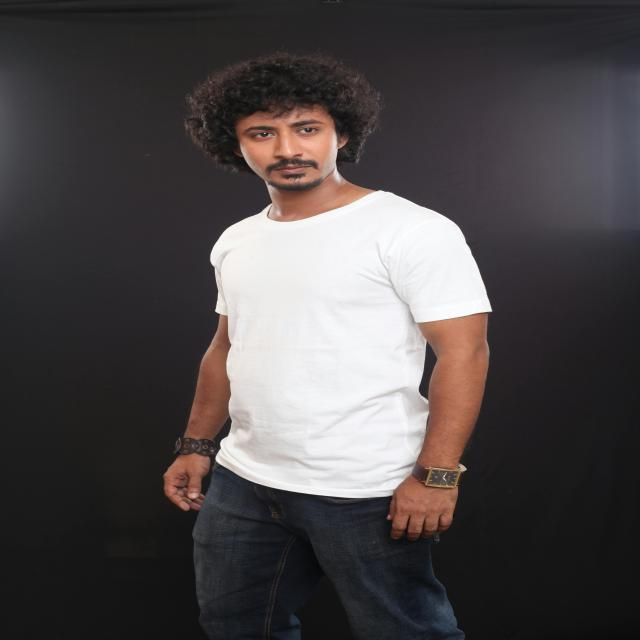human: (156, 51, 504, 640)
